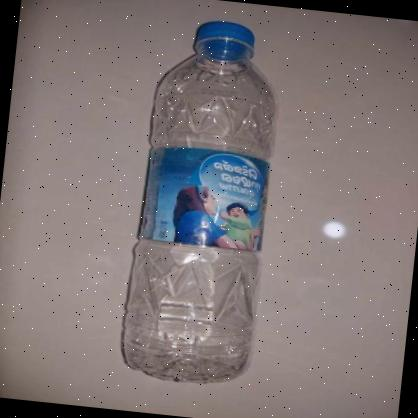bottle: (116, 11, 289, 390)
cap: (191, 20, 257, 54)
label: (134, 140, 270, 256)
